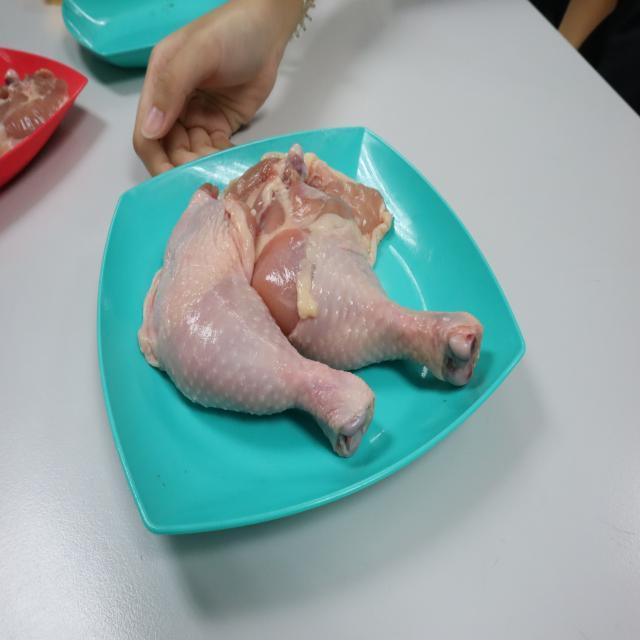quater: (134, 187, 360, 467), (233, 153, 497, 383)
